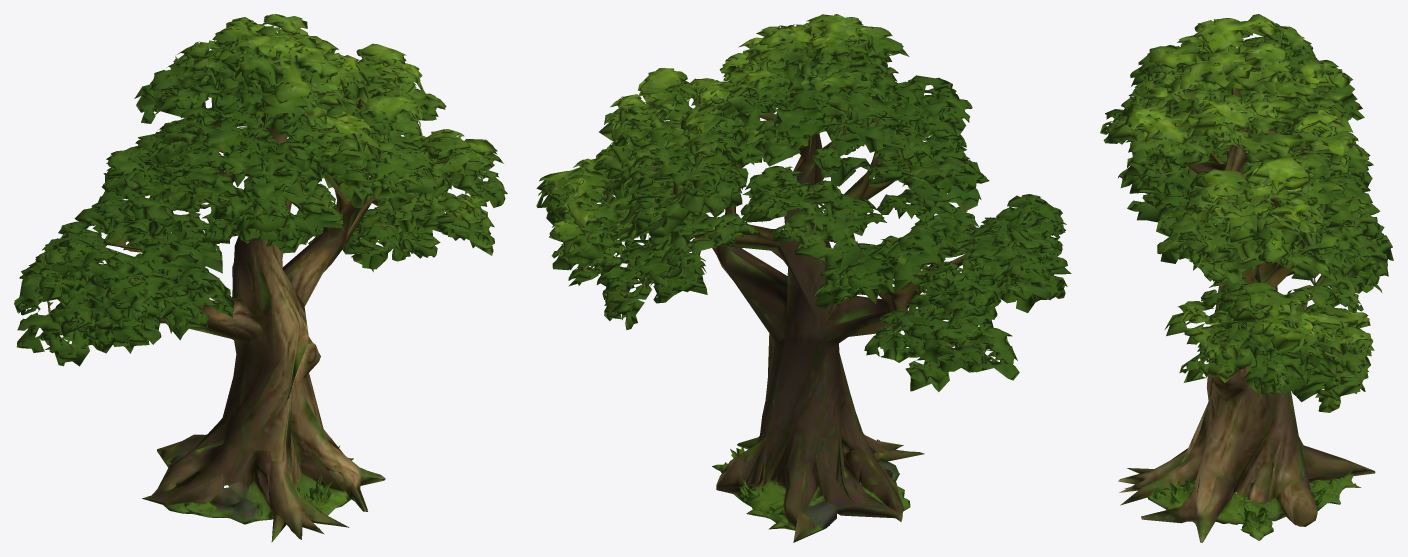
The model's file is oakTree.glb.
The picture shows the model from 3 angles, left to right: view 1: azimuth 30°, elevation 25°; view 2: azimuth 150°, elevation 25°; view 3: azimuth 270°, elevation 25°; orthographic projection.
Visible parts, largest first — view 1: world; view 2: world; view 3: world.
Part boxes in pixels (x1,y1,x2,y2): world: (14, 14, 507, 542); world: (536, 14, 1071, 542); world: (1100, 14, 1393, 542).
Bounding box in the file's own units: 0.9901 × 0.8808 × 0.5044.
Materials: 1 (1 with a texture image).
